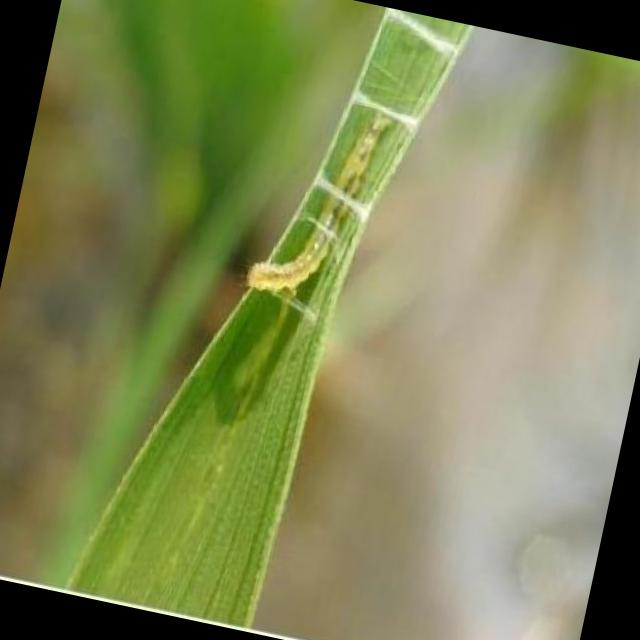leaf-folder: (215, 76, 423, 364)
